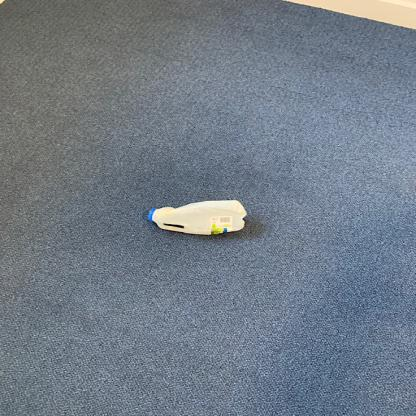trash: (149, 199, 252, 238)
